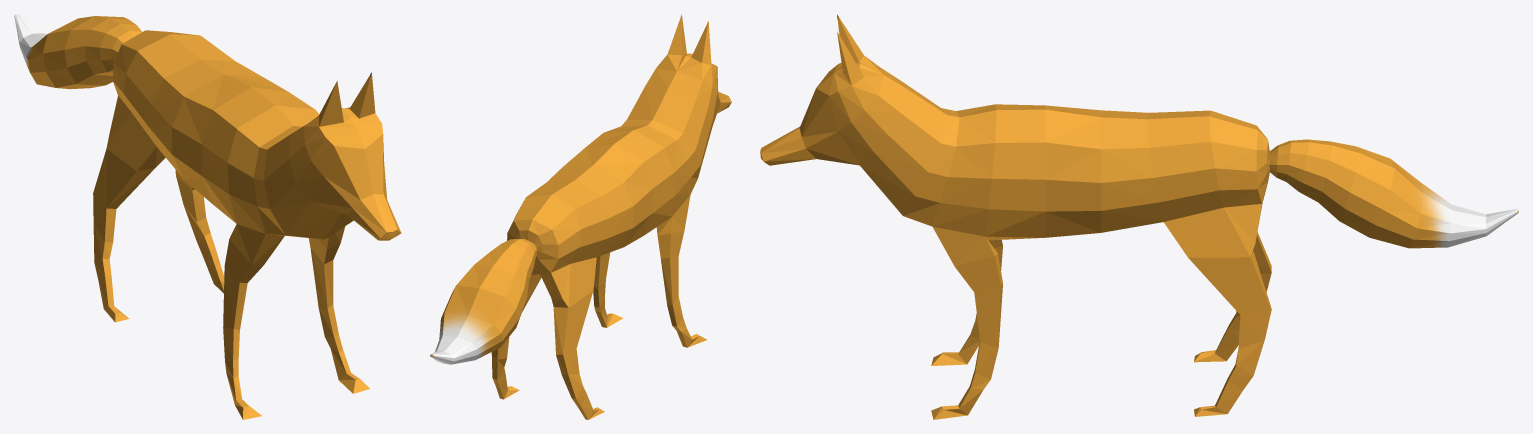
Rendered from fox.obj.
3 renders of one model, left to right at view 1: azimuth 30°, elevation 25°; view 2: azimuth 150°, elevation 25°; view 3: azimuth 270°, elevation 25°, orthographic. The views are drawn at different scales.
Visible parts, largest first — view 1: Cube; view 2: Cube; view 3: Cube.
Boxes of the visible parts, x1,y1,x2,y2 form: Cube: (14, 14, 401, 419); Cube: (430, 14, 731, 419); Cube: (760, 14, 1518, 419).
Size of the model in its own units: 0.5451 by 1.49 by 2.79.
1 material, 1 textured.
